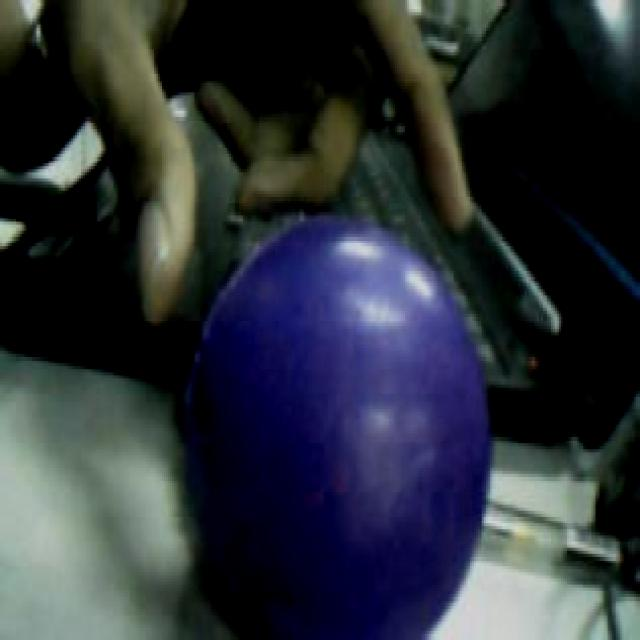BallPurple: (182, 215, 493, 640)
